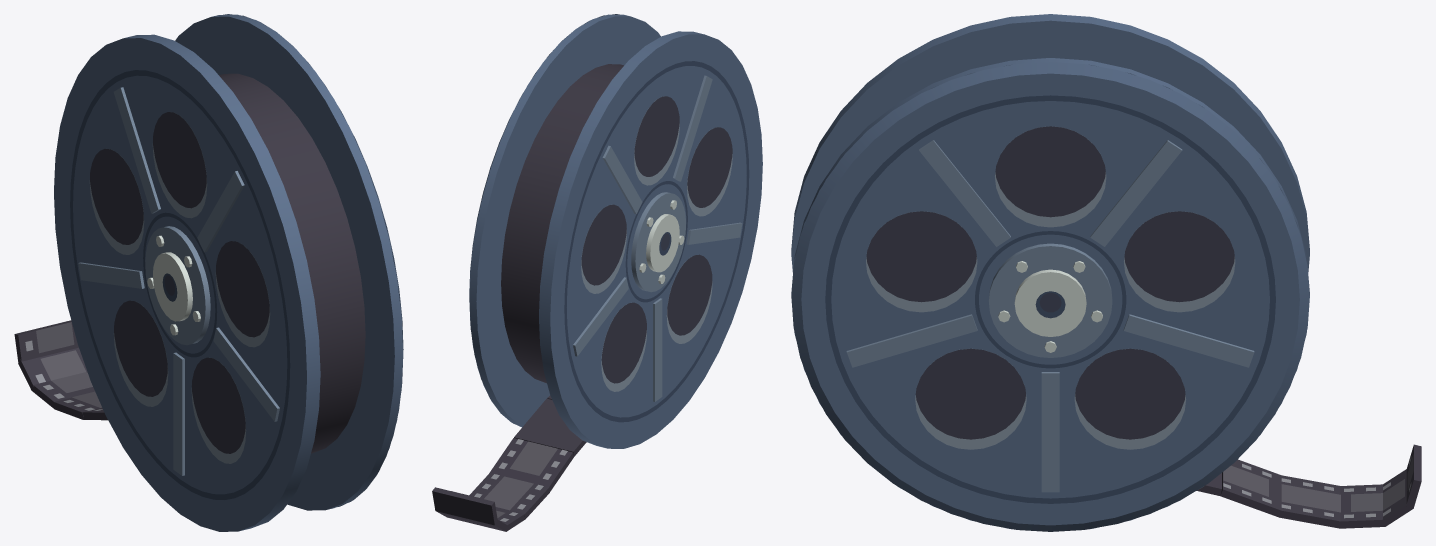
The model's file is film-reel.glb.
3 renders of one model, left to right at view 1: azimuth 30°, elevation 25°; view 2: azimuth 150°, elevation 25°; view 3: azimuth 270°, elevation 25°, orthographic. The views are drawn at different scales.
Visible parts, largest first — view 1: body, holes; view 2: body, holes; view 3: body, holes.
Boxes of the visible parts, x1,y1,x2,y2 form: body: [14, 14, 403, 531]; holes: [78, 87, 279, 475]; body: [432, 14, 762, 531]; holes: [573, 75, 742, 401]; body: [791, 14, 1421, 531]; holes: [846, 126, 1254, 492].
Size of the model in its own units: 0.726 by 2.61 by 3.16.
